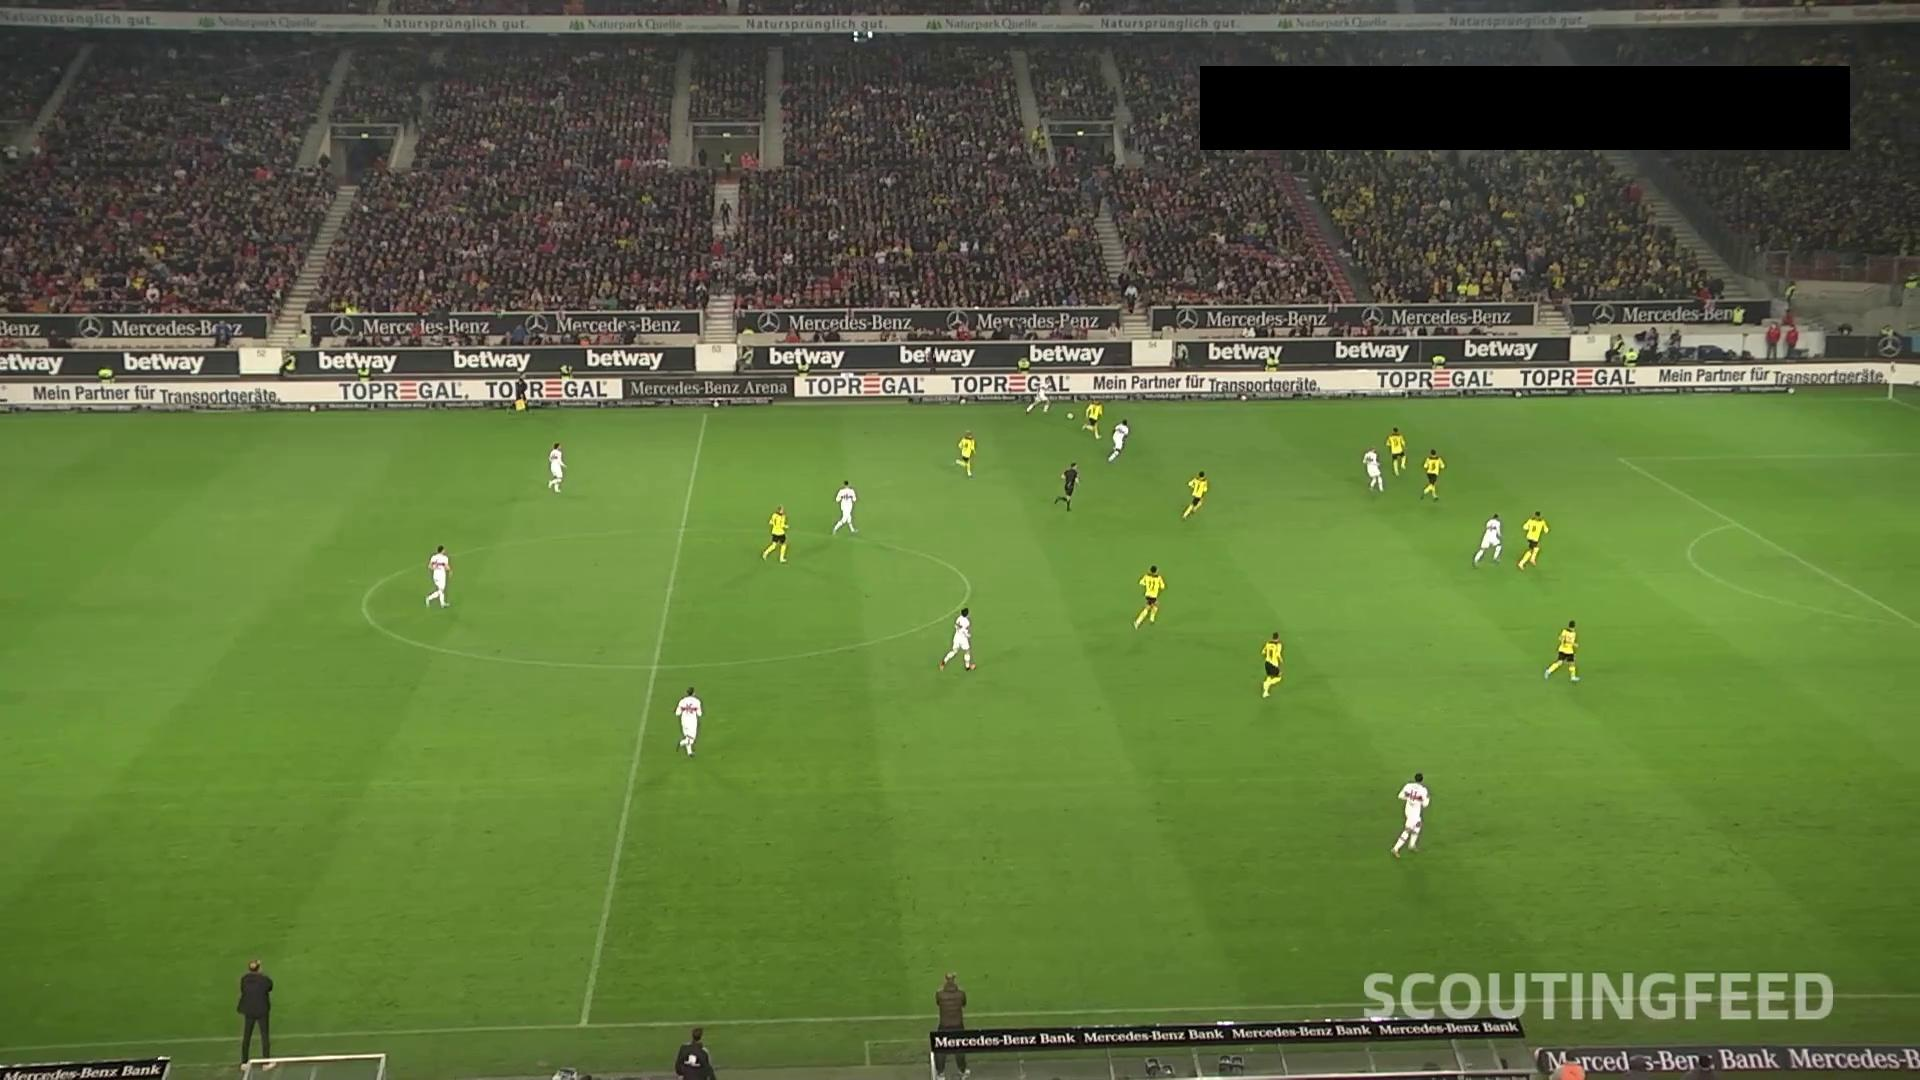Location-of-ball: (1059, 402, 1084, 430)
